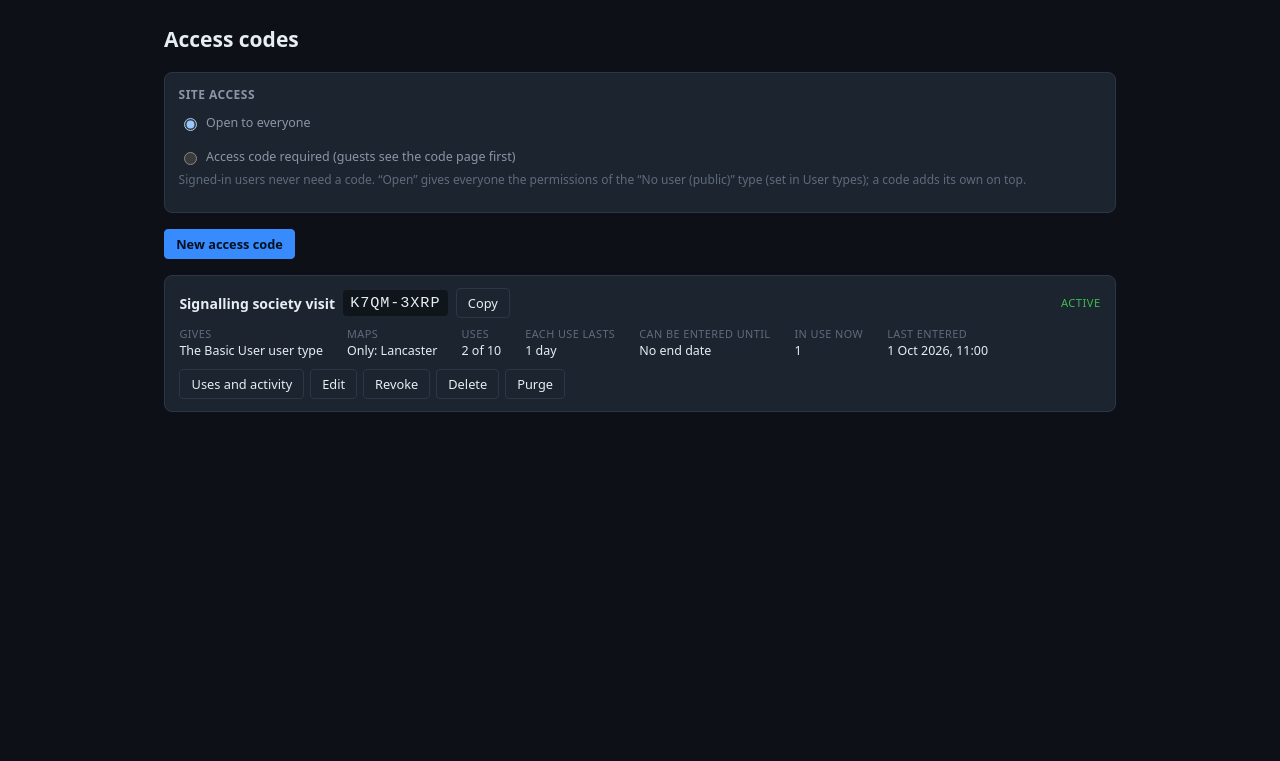
Test: AdminAccessPage › warns when the chosen user type gives editor permissions
Click the button "New access code" at (230, 244), box [164,229,295,259]
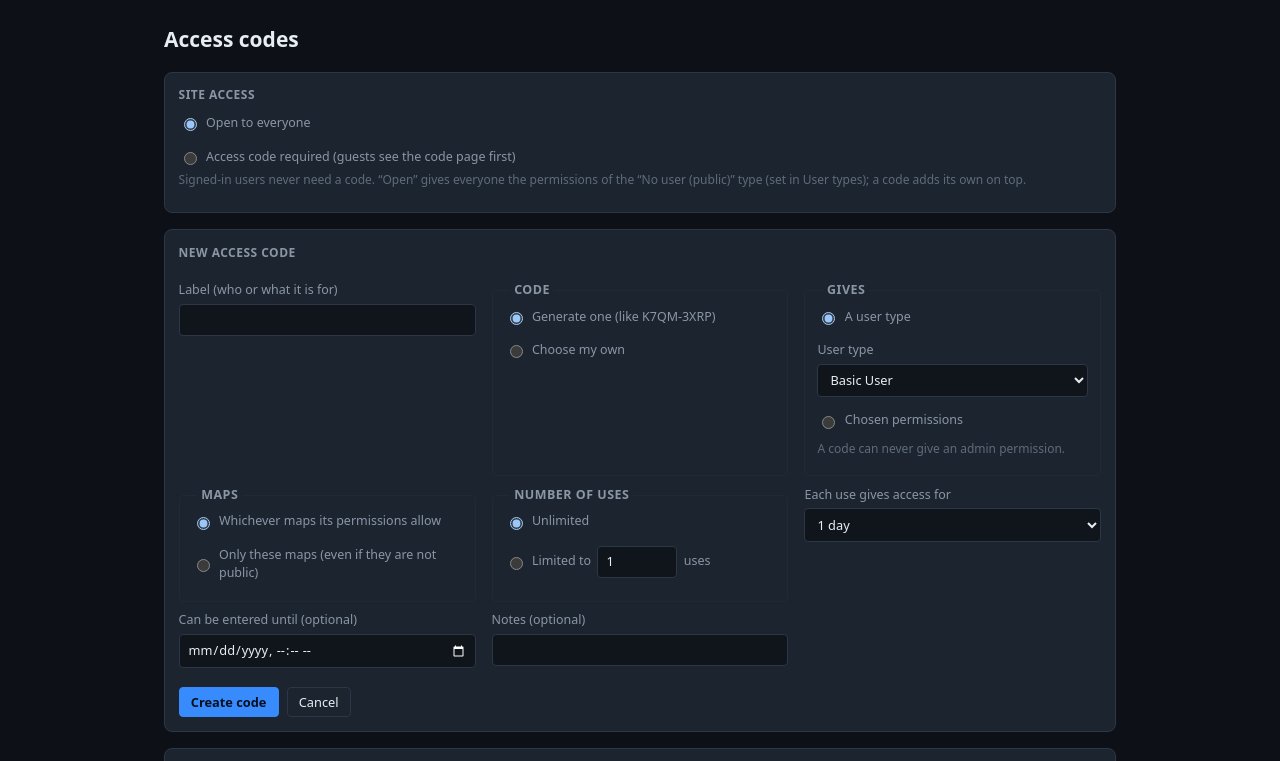
Select "Editor" in the dropdown labelled "User type" at (953, 380), box [818,364,1088,397]
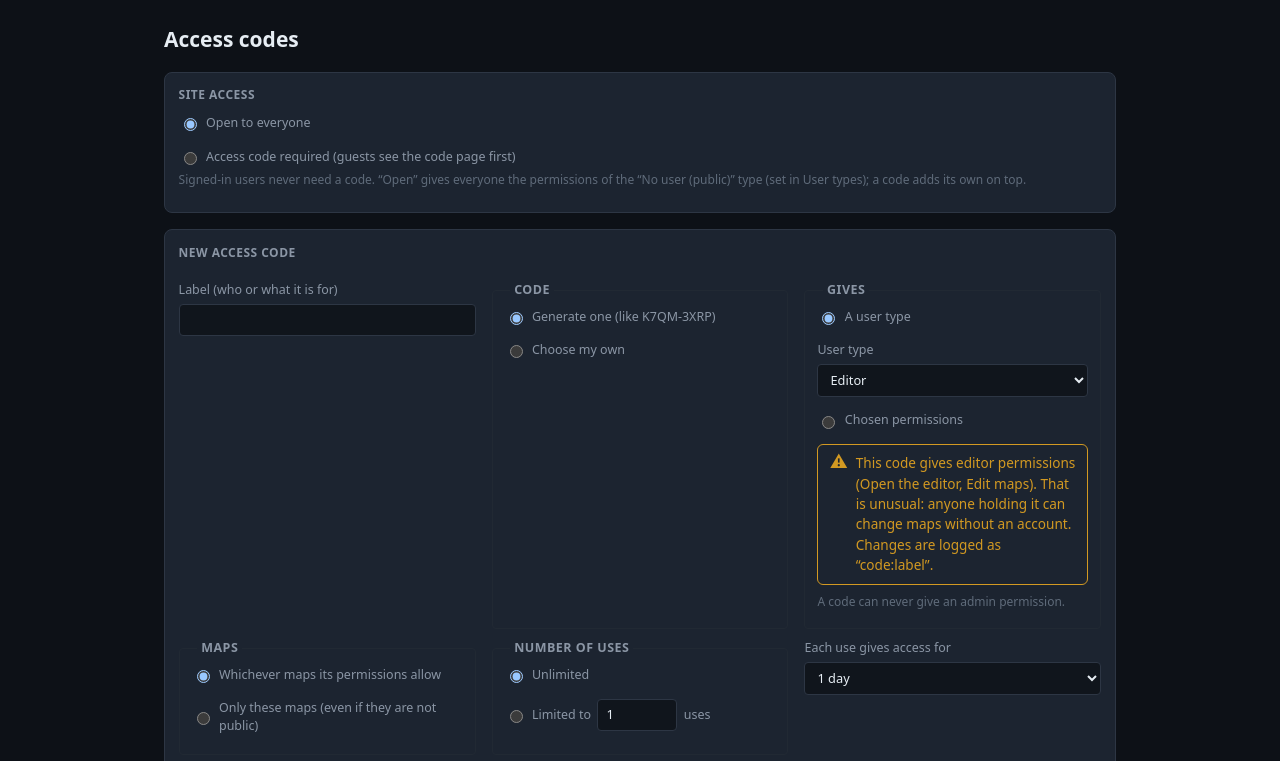
Expected: the element that starts with "This code gives editor permissions (" shows "Open the editor, Edit maps", [860,474,1029,493]
